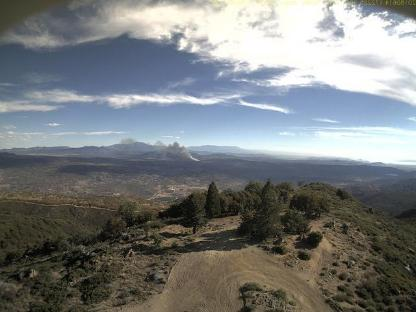smoke: (116, 136, 202, 162)
